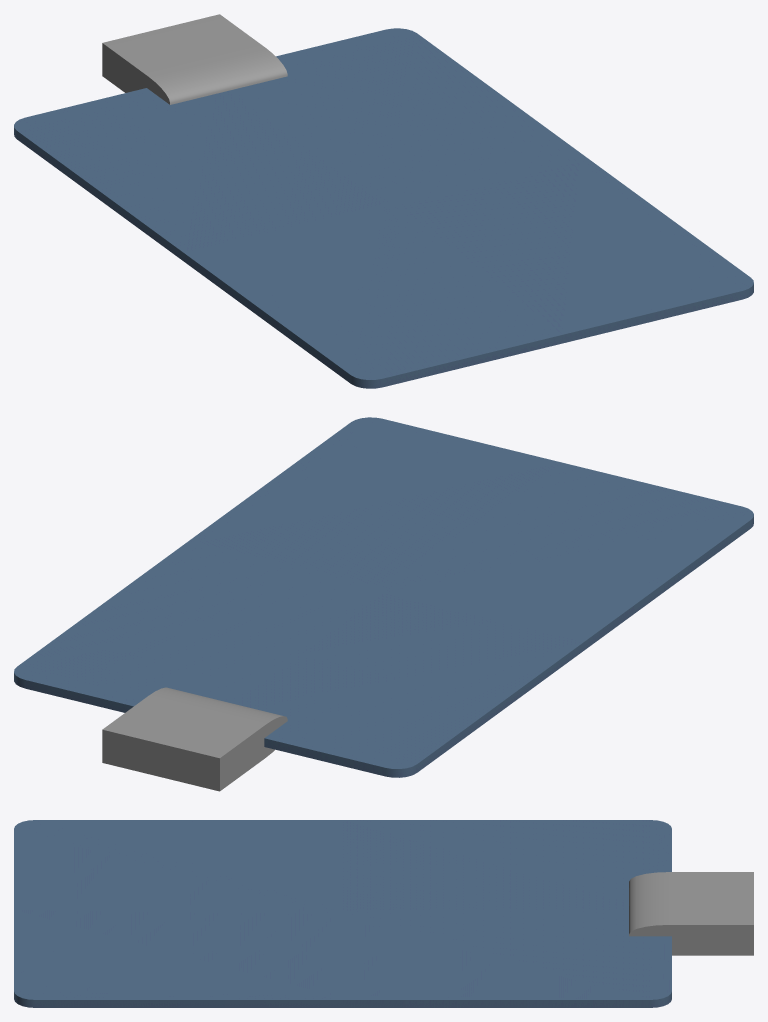
File: CatIDCard.fbx
The picture shows the model from 3 angles, top to bottom: view 1: azimuth 30°, elevation 25°; view 2: azimuth 150°, elevation 25°; view 3: azimuth 270°, elevation 25°; orthographic projection. The views are drawn at different scales.
Visible parts, largest first — view 1: Cube.001; view 2: Cube.001; view 3: Cube.001.
Boxes of the visible parts, x1=… form: Cube.001: x1=14, y1=14, x2=753, y2=388; Cube.001: x1=14, y1=417, x2=753, y2=791; Cube.001: x1=14, y1=820, x2=753, y2=1007.
Size of the model in its own units: 64.7 by 5.14 by 112.
Materials: 1 (1 with a texture image).
